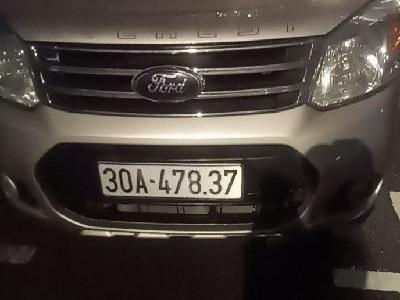number: (99, 160, 245, 204)
